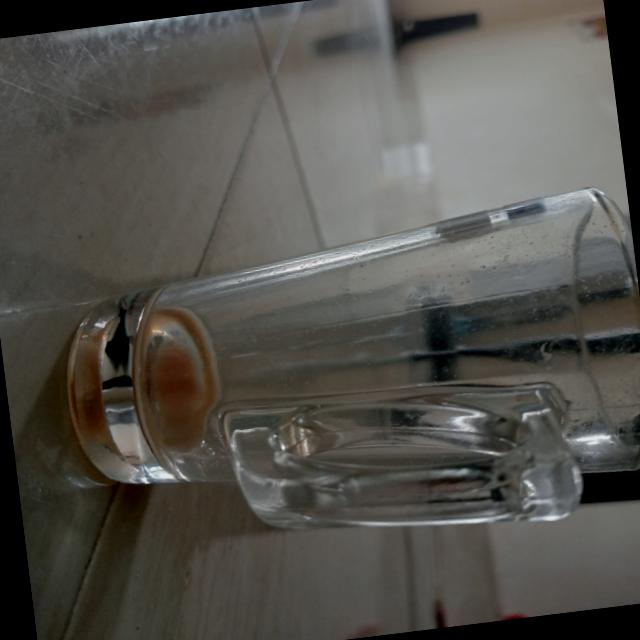glass-VX4N: (44, 180, 640, 575)
